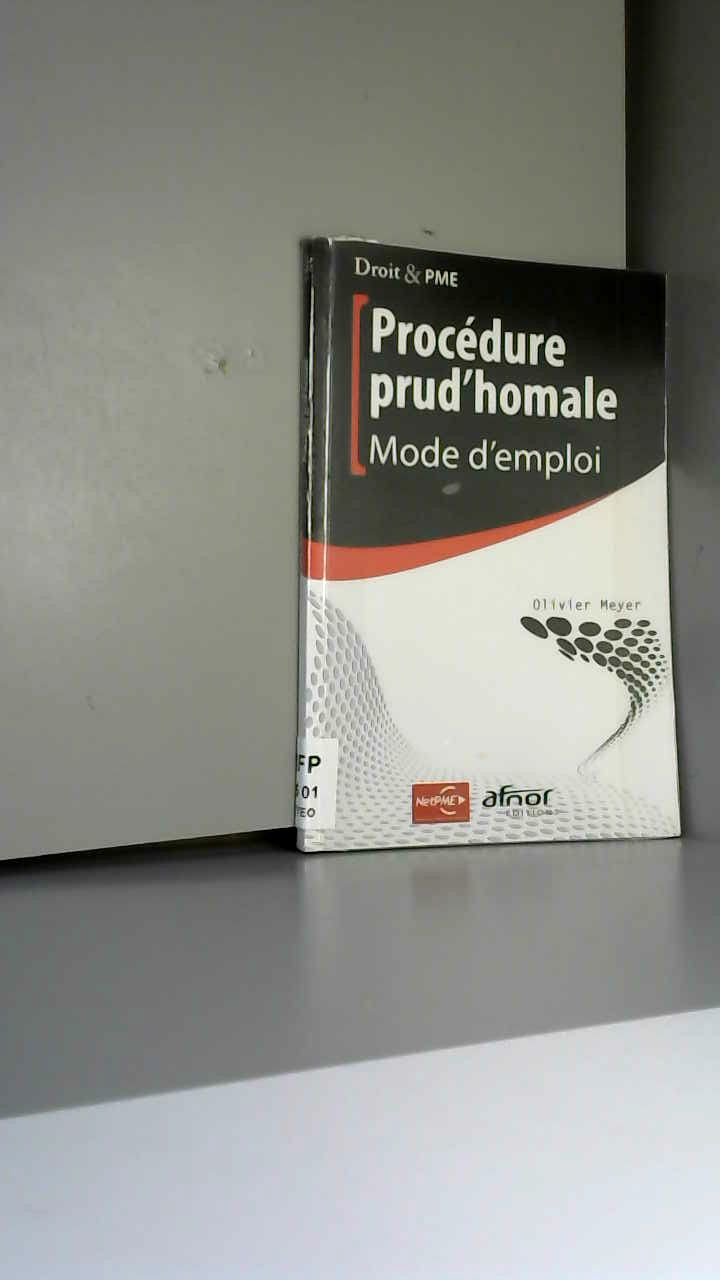book: (260, 210, 716, 935)
